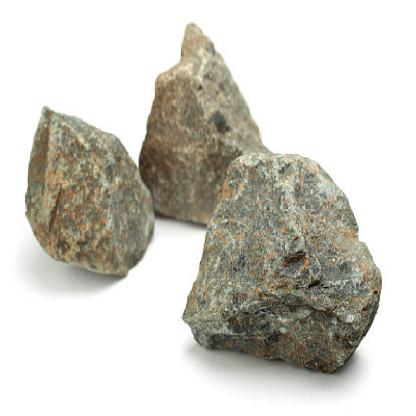Metamorphic_Marble: (179, 142, 391, 368), (22, 93, 159, 290)
